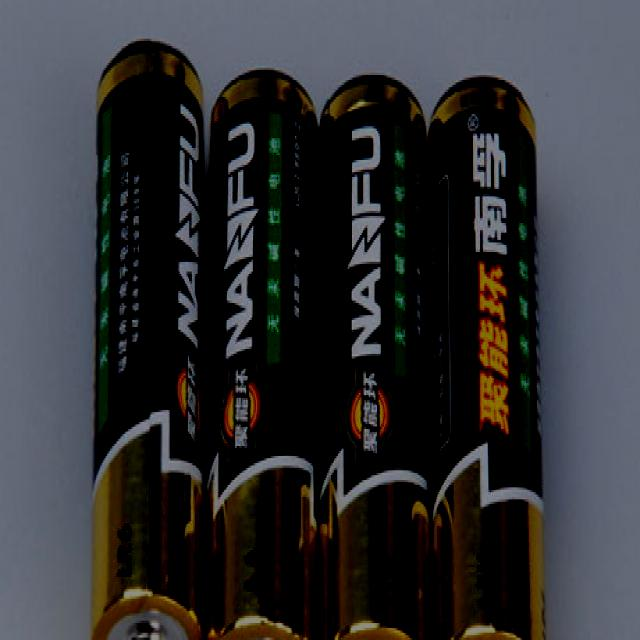AA: (90, 37, 208, 640), (214, 31, 324, 640), (433, 66, 546, 640), (319, 59, 429, 640)
